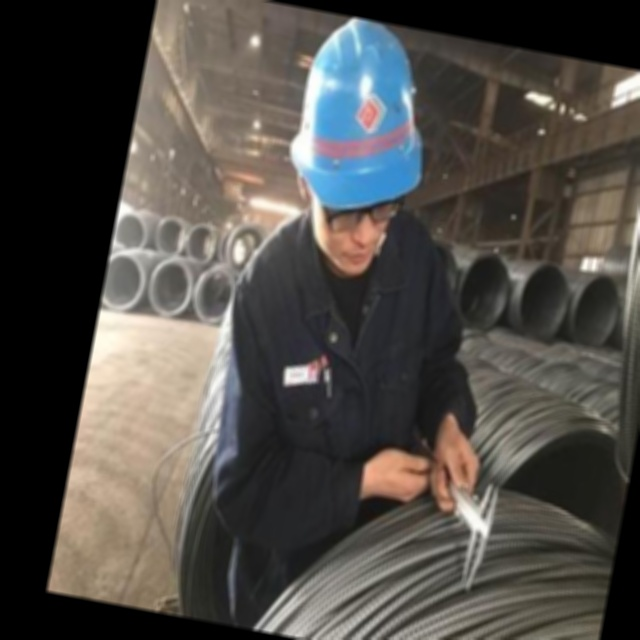Con_Casco: (274, 15, 434, 266)
